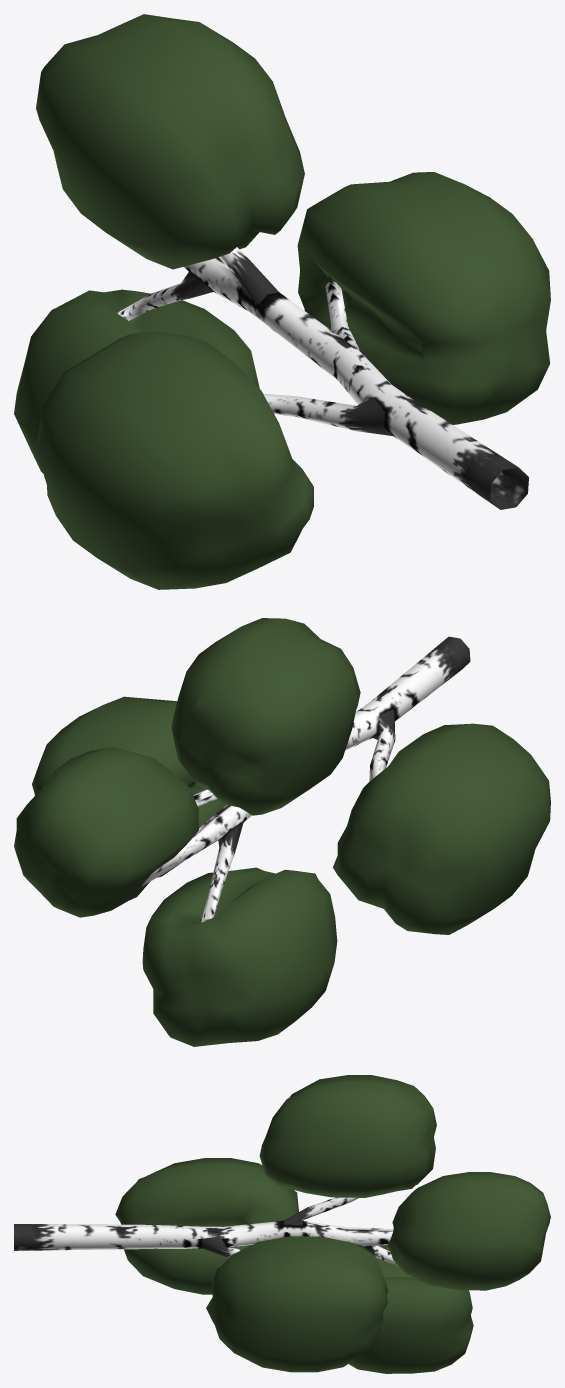
Rendered from birch_01.dae.
The picture shows the model from 3 angles, top to bottom: view 1: azimuth 30°, elevation 25°; view 2: azimuth 150°, elevation 25°; view 3: azimuth 270°, elevation 25°; orthographic projection. The views are drawn at different scales.
Visible parts, largest first — view 1: birch_01; view 2: birch_01; view 3: birch_01.
Boxes of the visible parts, left/top/right/bottom form: birch_01: left=14, top=14, right=550, bottom=589; birch_01: left=14, top=618, right=550, bottom=1046; birch_01: left=14, top=1075, right=550, bottom=1373.
Bounding box in the file's own units: 2.12 × 3.19 × 1.88.
Materials: 1 (1 with a texture image).
